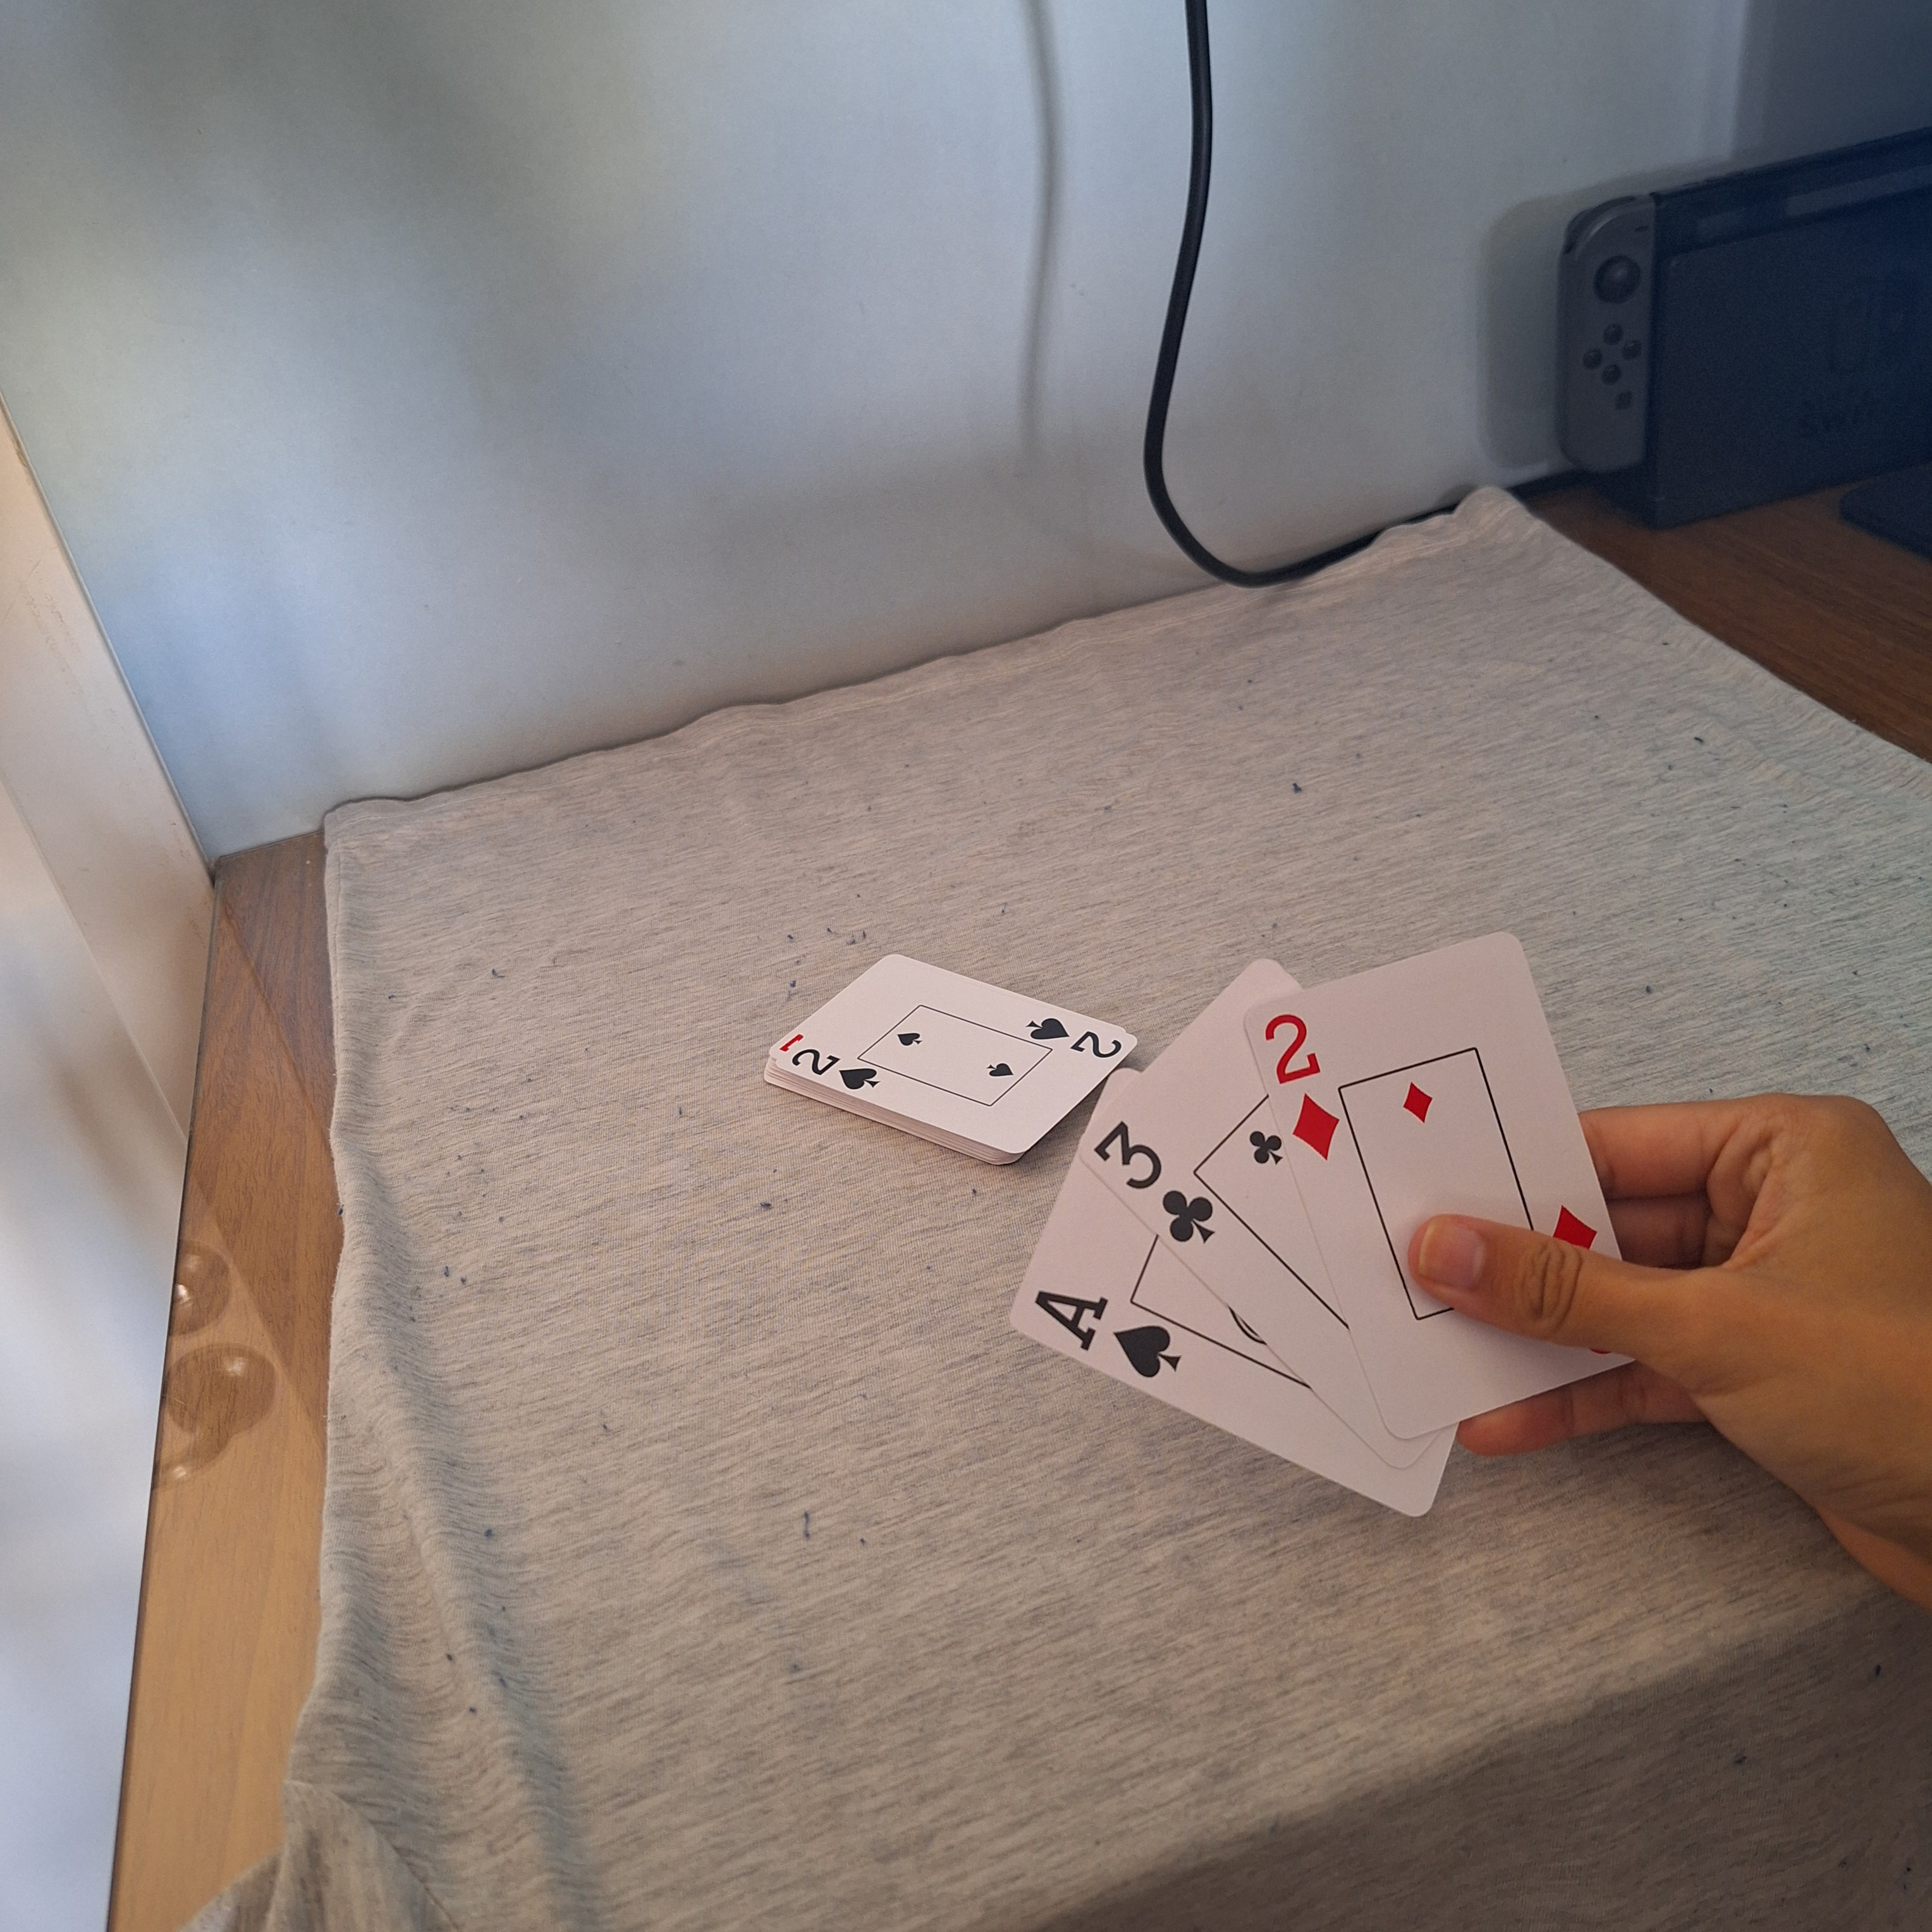2E: (1024, 1010, 1127, 1065), (791, 1046, 881, 1092)
2O: (1261, 1003, 1346, 1161)
3P: (1090, 1116, 1219, 1253)
AE: (1026, 1281, 1185, 1384)
